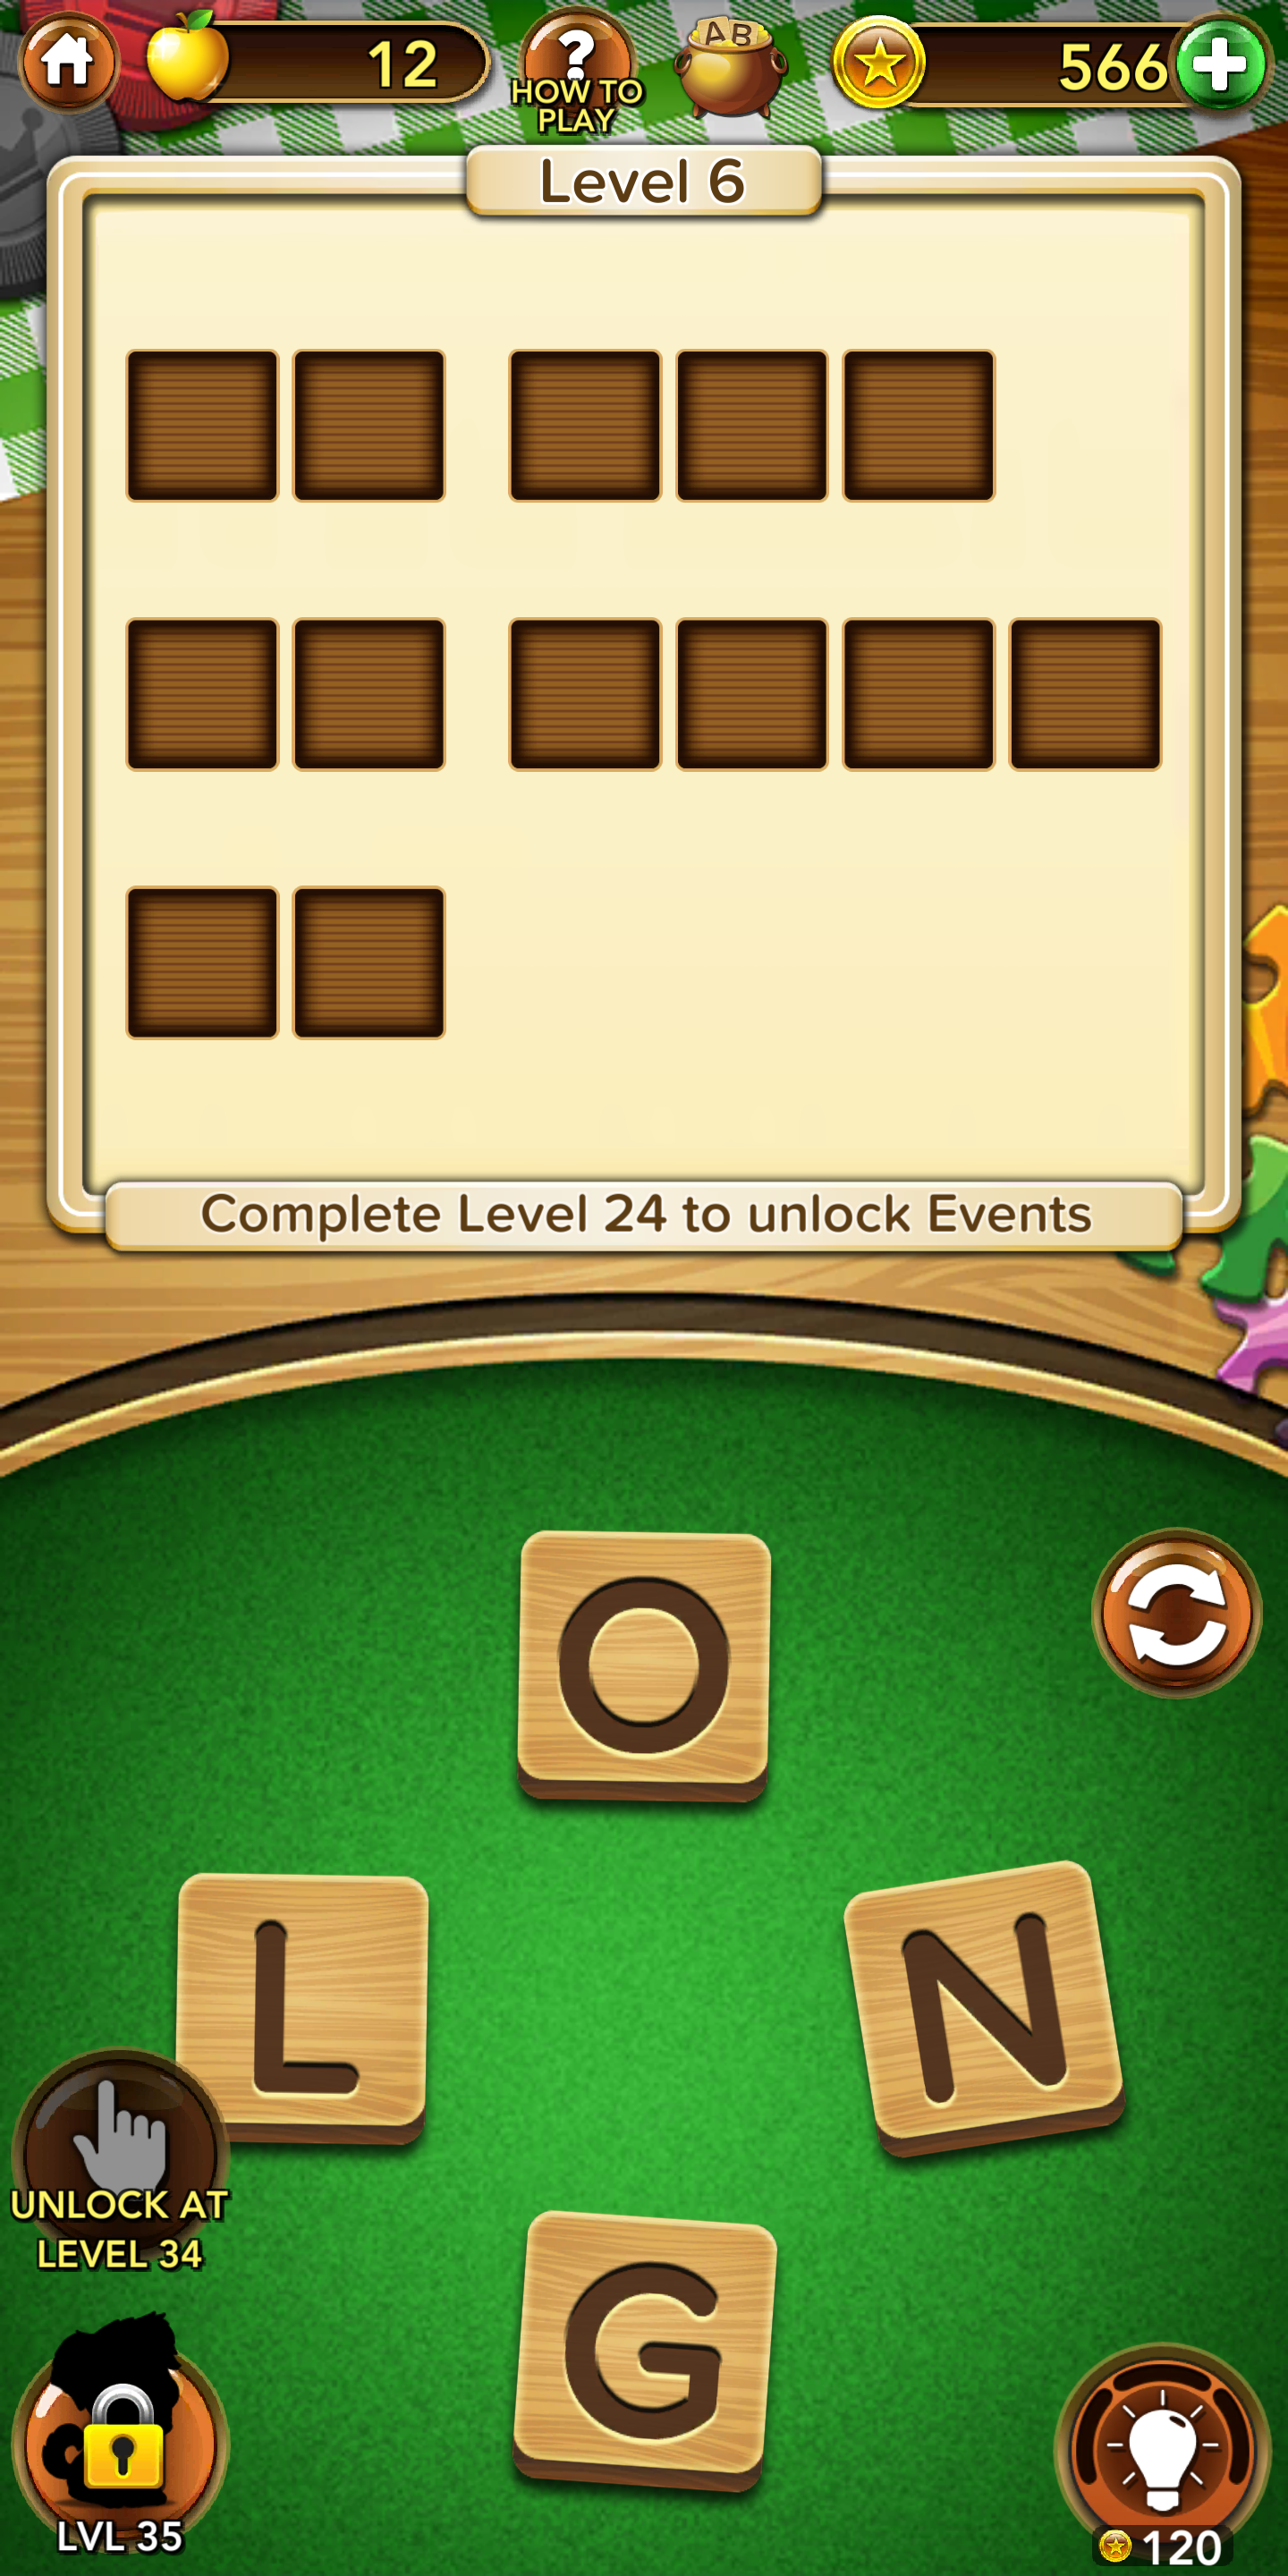tile: (843, 1861, 1124, 2157), (514, 2210, 777, 2492), (517, 1531, 770, 1806), (227, 1873, 429, 2146)
